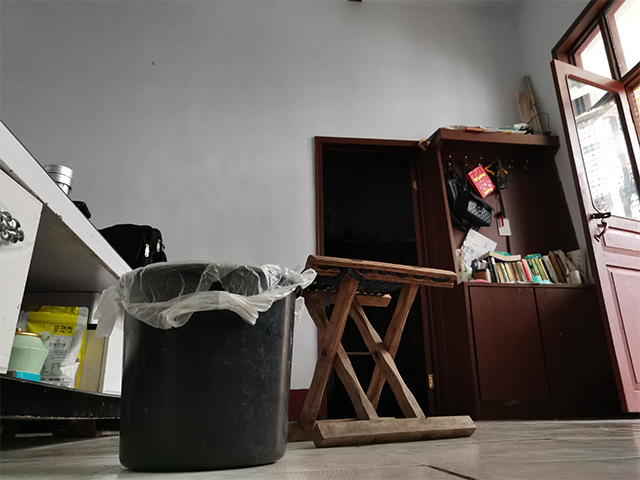cabinet: (439, 275, 620, 421)
stool: (287, 253, 478, 449)
table: (1, 118, 136, 449)
trashcan: (114, 258, 305, 474)
